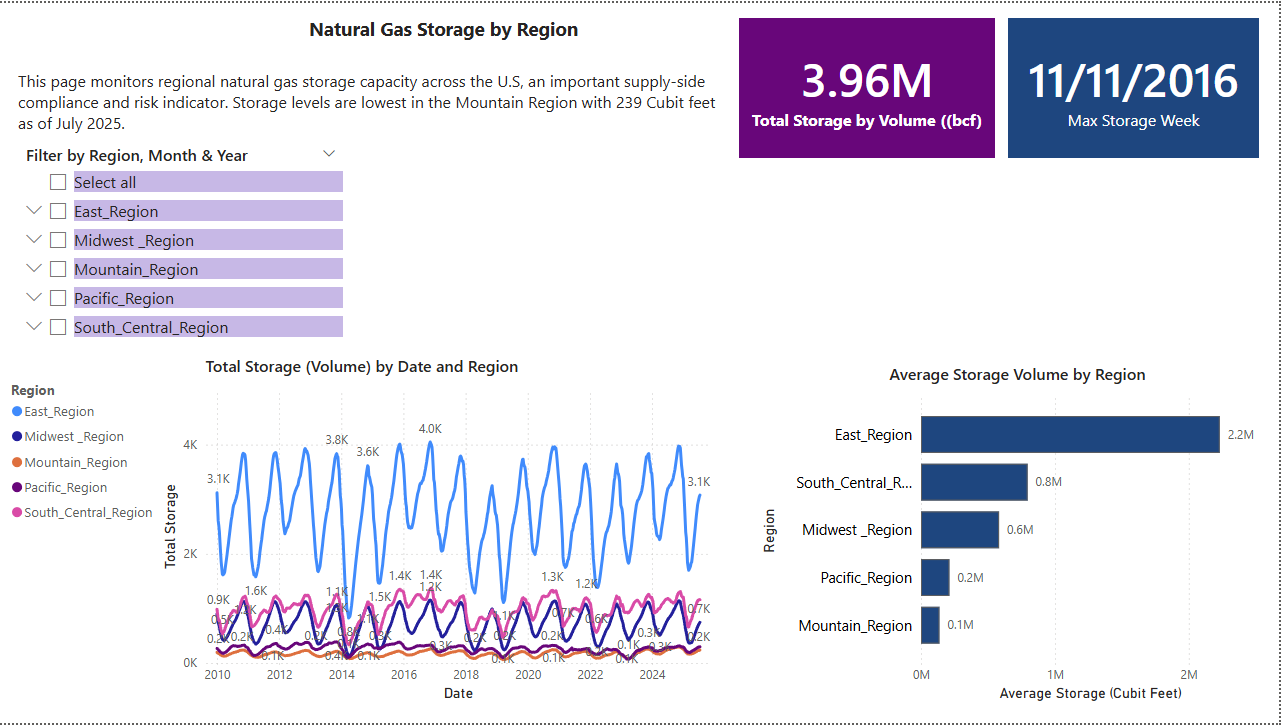

The dashboard page shown, as its layout file describes it:
{"tool":"powerbi","page":{"name":"Page 3: Supply Storage and ompliance Risk Signals","canvas":[1280,720],"ordinal":2},"visuals":[{"type":"textbox","box":[162,8,565,47],"z":0},{"type":"textbox","box":[14,62,713,74],"z":1000},{"type":"lineChart","title":"Total Storage (Volume)  by Date and Region","fields":{"Category":["LNG WEEKLY STORAGE  BY REGION.Date"],"Series":["LNG WEEKLY STORAGE  BY REGION.Region"],"Y":["LNG WEEKLY STORAGE  BY REGION.Total_Storage"]},"box":[7,352,712,351],"z":2000},{"type":"clusteredBarChart","title":"Average Storage Volume by Region","fields":{"Category":["LNG WEEKLY STORAGE  BY REGION.Region"],"Y":["LNG WEEKLY STORAGE  BY REGION.Average_Storage"]},"box":[757,360,523,343],"z":3000},{"type":"card","fields":{"Values":["LNG WEEKLY STORAGE  BY REGION.Total_Storage"]},"box":[740,14.6,255.8,140.9],"z":4000},{"type":"card","fields":{"Values":["LNG WEEKLY STORAGE  BY REGION.Max_sorage_week"]},"box":[1008.8,14.6,251,140.9],"z":5000},{"type":"slicer","title":"Filter by Region & Month & Year","fields":{"Values":["LNG WEEKLY STORAGE  BY REGION.Region","LNG WEEKLY STORAGE  BY REGION.Month-Year"]},"box":[14,136,335,216],"z":6000}]}

Visuals, with their boxes in screenshot pixels (x1, y1, x2, y2), scaled from the page's 1280x720 canvas onto the 1282x725 screenshot:
textbox: (162,8,728,55)
textbox: (14,62,728,137)
"Total Storage (Volume)  by Date and Region" lineChart: (7,354,720,708)
"Average Storage Volume by Region" clusteredBarChart: (758,362,1281,708)
card - LNG WEEKLY STORAGE  BY REGION.Total_Storage: (741,15,997,157)
card - LNG WEEKLY STORAGE  BY REGION.Max_sorage_week: (1010,15,1262,157)
"Filter by Region & Month & Year" slicer: (14,137,350,354)
